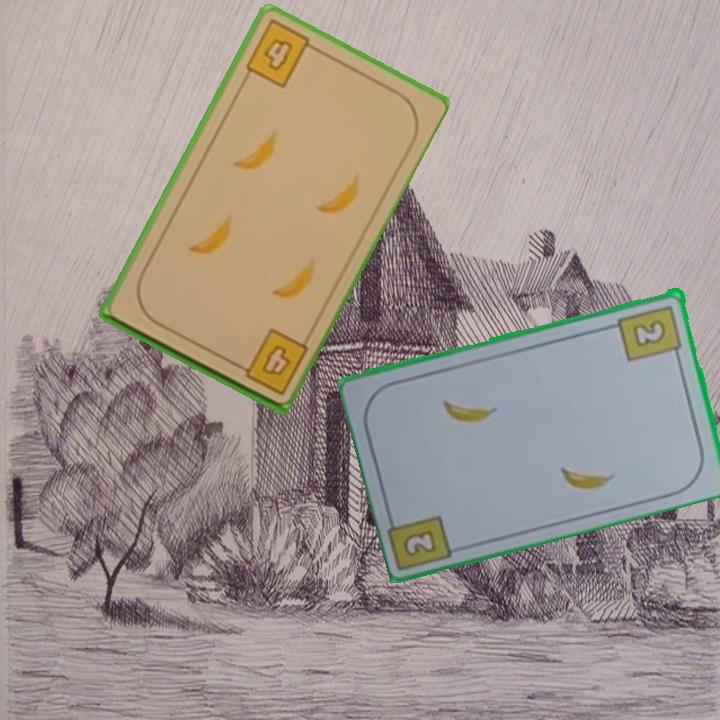2b: (615, 301, 685, 364), (399, 525, 440, 560)
4b: (241, 17, 321, 91), (229, 325, 310, 398)
